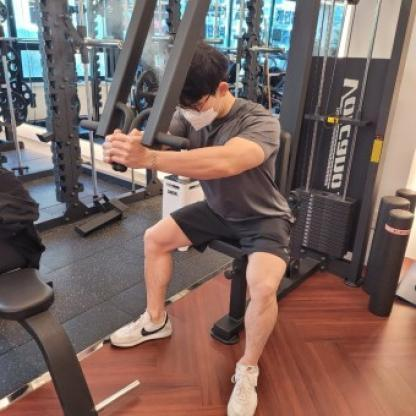chest fly machine: (49, 1, 415, 416)
